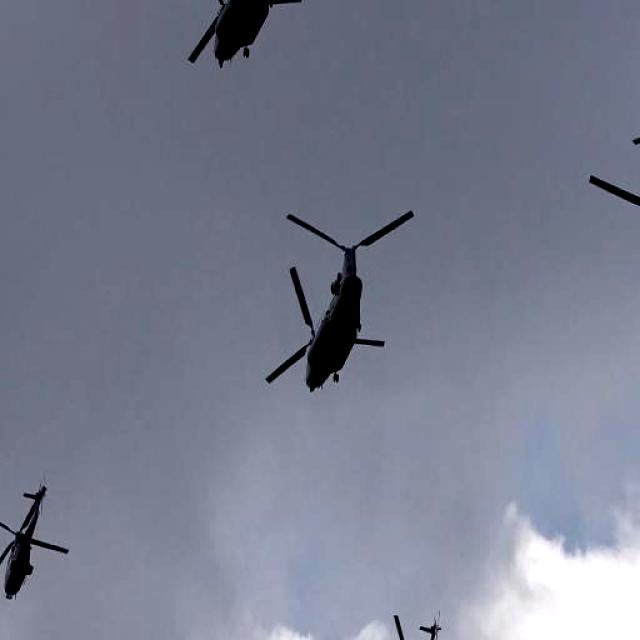drone: (262, 200, 420, 406), (175, 0, 341, 86), (586, 55, 640, 282), (0, 474, 58, 600), (356, 609, 465, 640)
